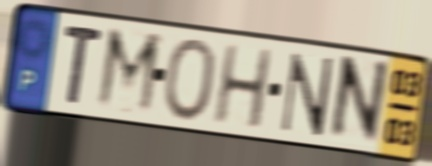H: (210, 42, 275, 132)
M: (92, 24, 165, 121)
N: (324, 53, 392, 148), (277, 50, 337, 139)
O: (161, 36, 219, 124)
T: (61, 21, 105, 108)
